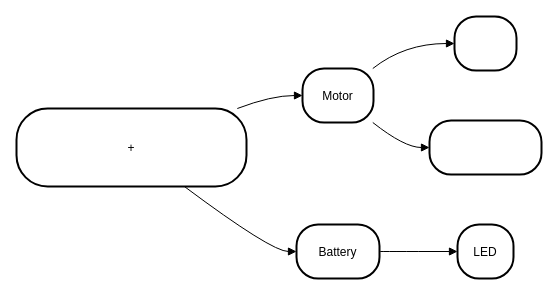
The diagram is 558 pixels wide and 295 high, and some of its shapes have lost their labels. The shapes that lost their labels are listed below. From the top down, each one's box as (x1, y1, x2, y2) in pixels, then its label:
(453, 15, 517, 71): Lens
(428, 119, 542, 175): Microphone
